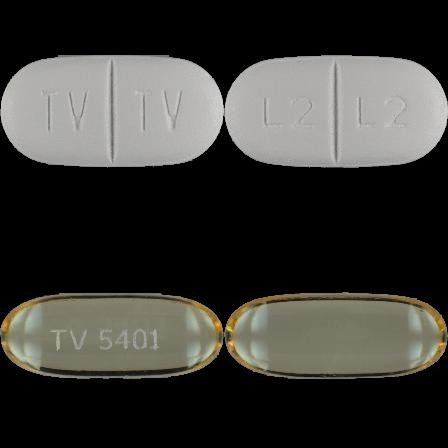0093-5385: (0, 0, 224, 224)
